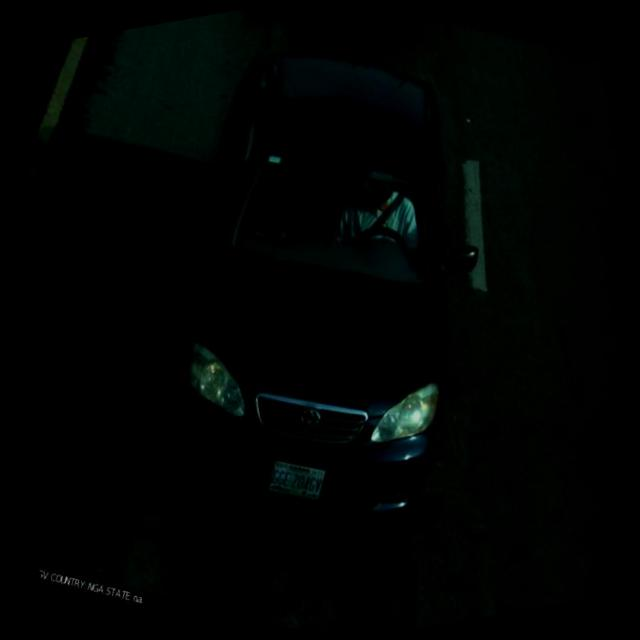person_with_seatbelt: (320, 146, 454, 271)
